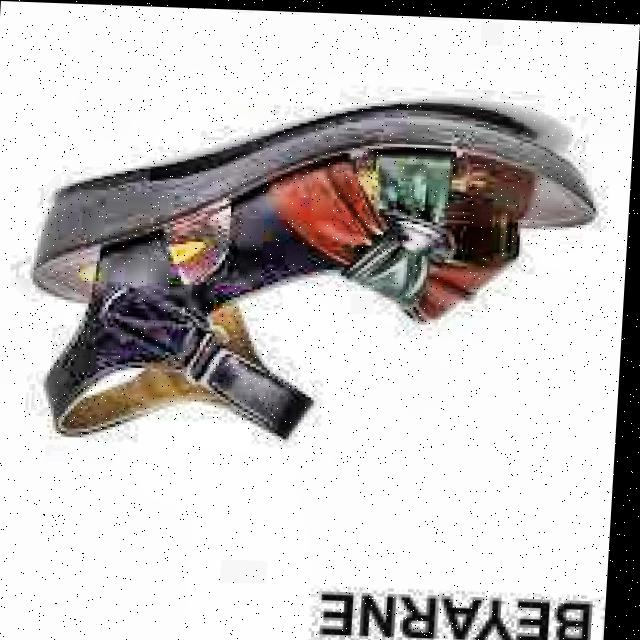shoes: (11, 60, 611, 470)
